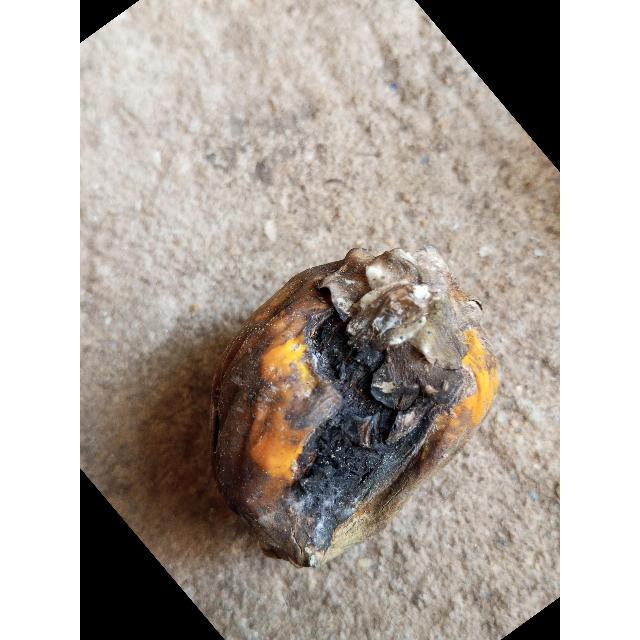damaged: (210, 247, 502, 571)
